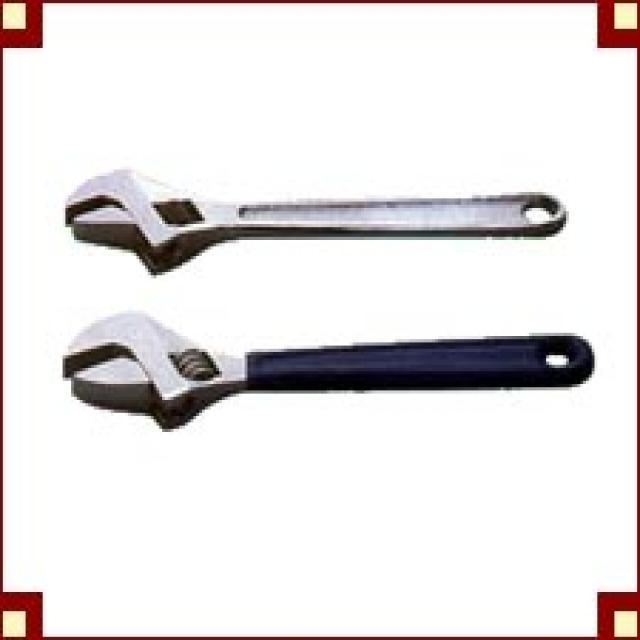wrench: (60, 305, 598, 439), (58, 162, 571, 282)
